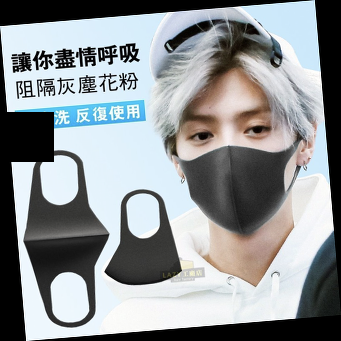with_mask: (176, 103, 298, 237)
